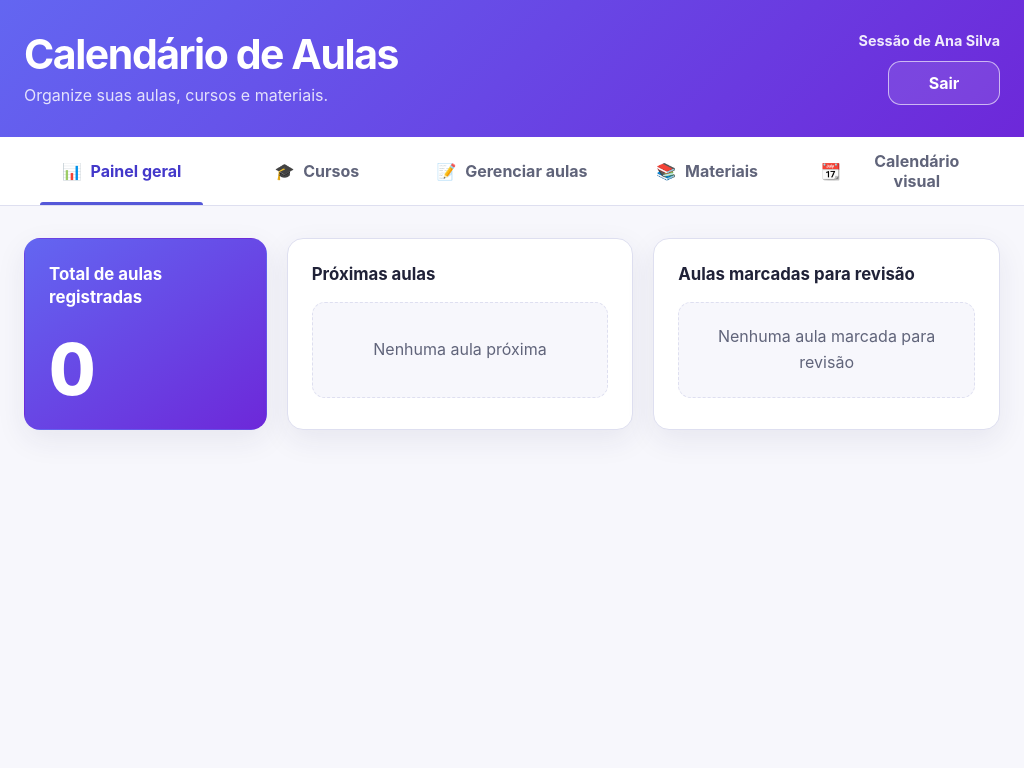
Test case: navegação da área autenticada › consulta as fontes necessárias ao abrir materiais
What coordinates should you click on to do the following:
click the button "📚 Materiais"
I would click on:
 (707, 171)
Its box is [610,137,805,205].
(page scrolled)
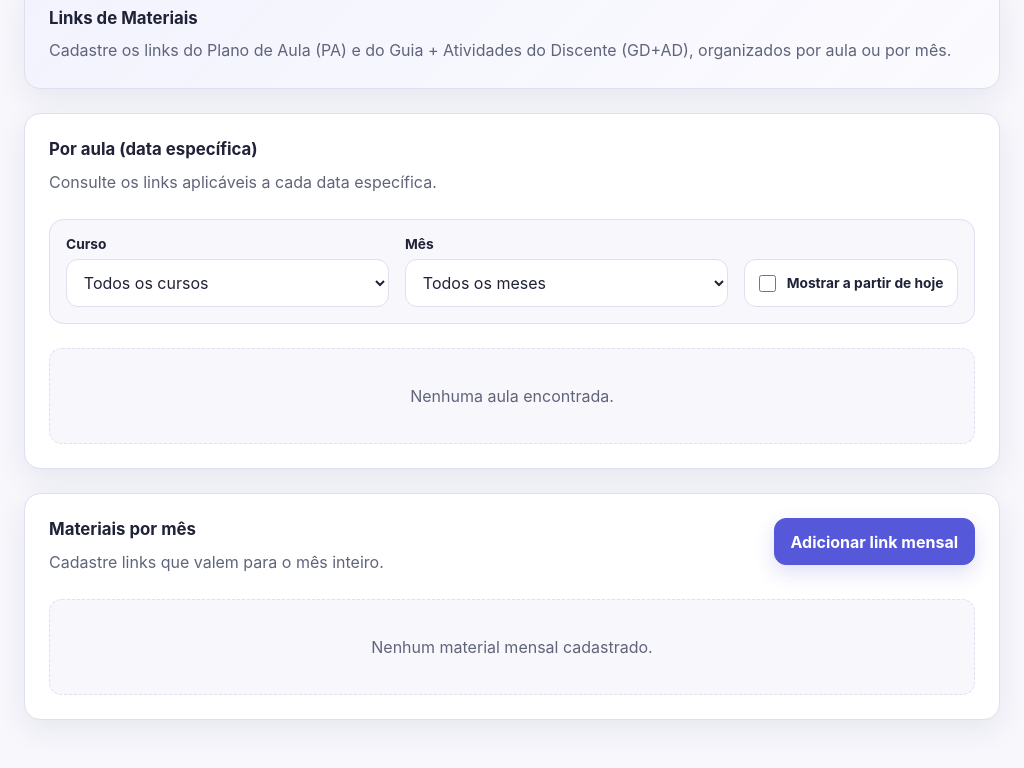
Result: the text "Nenhuma aula encontrada." is shown at [49,348,975,444]
Result: the text "Nenhum material mensal cadastrado." is shown at [49,599,975,695]
